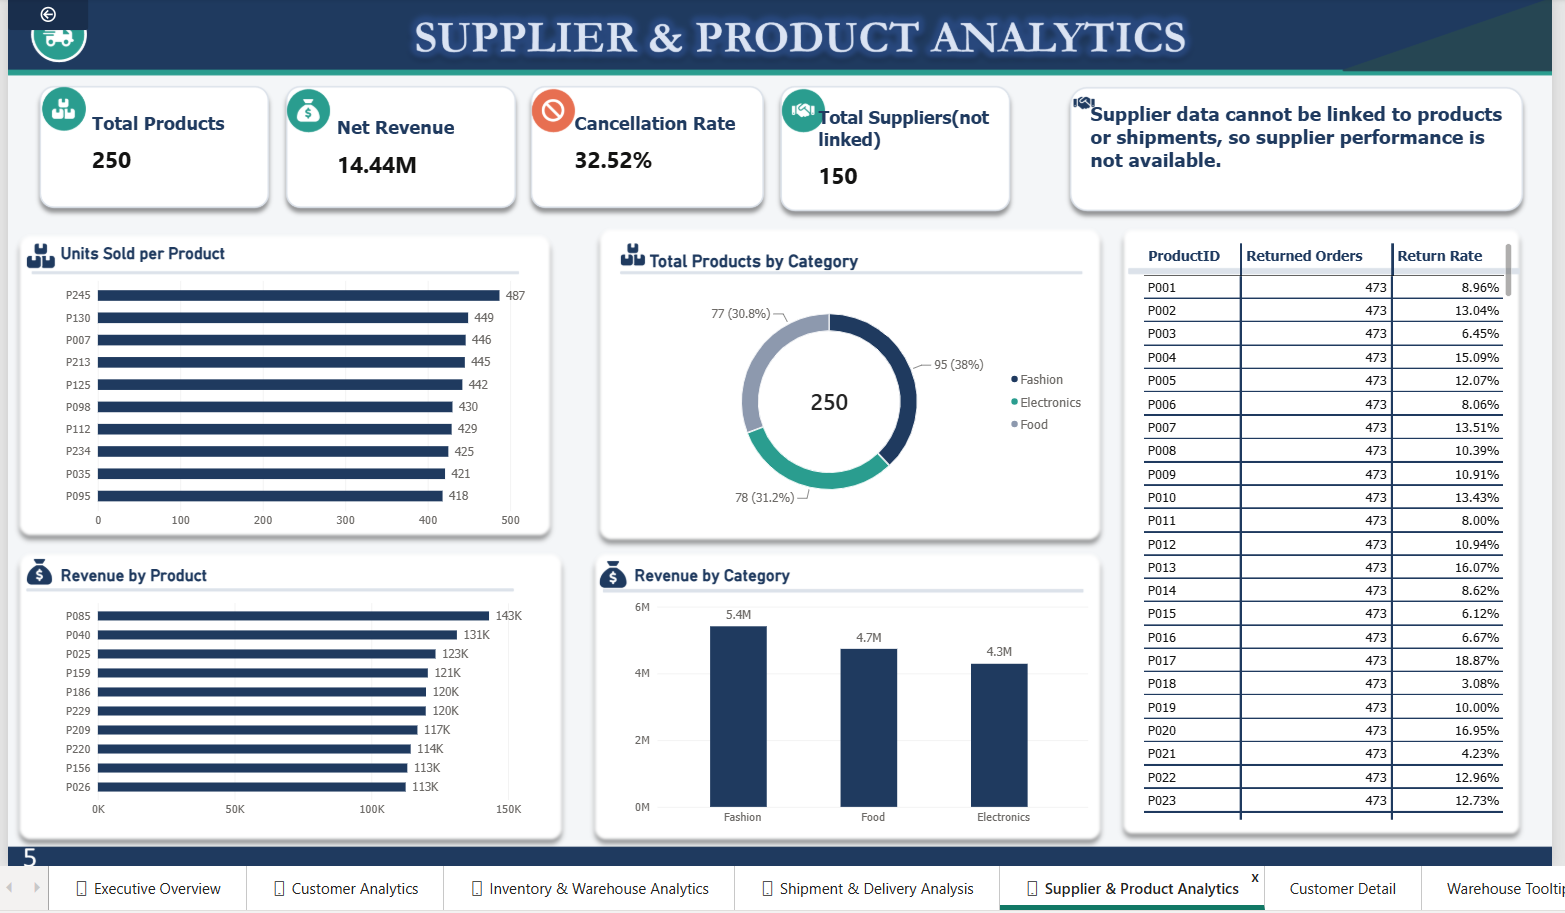

What the dashboard file says about the page in this screenshot:
{"tool":"powerbi","page":{"name":"Supplier & Product Analytics","canvas":[1920,1080],"ordinal":4},"visuals":[{"type":"cardVisual","fields":{"Data":["Products.Total Products"]},"box":[88.8,113.9,222.8,135.7],"z":0},{"type":"columnChart","title":"Revenue by Category","fields":{"Category":["Products.Category"],"Y":["Customers.Net Revenue"]},"box":[763.8,691.8,596.3,356.8],"z":1000},{"type":"cardVisual","fields":{"Data":["Customers.Net Revenue"]},"box":[393.6,113.9,219.4,147.4],"z":2000},{"type":"cardVisual","fields":{"Data":["Orders.Cancellation Rate"]},"box":[688.4,113.9,234.5,135.7],"z":3000},{"type":"donutChart","fields":{"Category":["Products.Category"],"Y":["Products.Total Products"]},"box":[782.2,299.8,577.9,365.1],"z":4000},{"type":"barChart","title":"Units Sold per Product","fields":{"Category":["Products.ProductID"],"Y":["Order_Items.Units Sold"]},"box":[50.2,291.4,621.4,388.6],"z":5000},{"type":"tableEx","fields":{"Values":["Products.ProductID","Returns.Returned Orders","Products.Products Return Rate"]},"box":[1395.2,291.4,490.8,747],"z":6000},{"type":"actionButton","box":[0,0,100,40],"z":7000},{"type":"barChart","title":"Revenue by Product","fields":{"Category":["Products.ProductID"],"Y":["Customers.Net Revenue"]},"box":[50.2,691.8,638.2,346.7],"z":8000},{"type":"cardVisual","fields":{"Data":["Suppliers.Total Suppliers"]},"box":[992.4,113.4,247.7,148.3],"z":9000},{"type":"textbox","box":[1346.7,129,515.9,120.6],"z":10000}]}

Visuals, with their boxes on the page's 1920x1080 design canvas (x1, y1, x2, y2). These are canvas units, not pixel positions in the 1565x913 screenshot, which may show the page scaled, cropped or inside an application window:
cardVisual - Products.Total Products: 89 114 312 250
"Revenue by Category" columnChart: 764 692 1360 1049
cardVisual - Customers.Net Revenue: 394 114 613 261
cardVisual - Orders.Cancellation Rate: 688 114 923 250
donutChart - Products.Category x Products.Total Products: 782 300 1360 665
"Units Sold per Product" barChart: 50 291 672 680
tableEx - Products.ProductID x Returns.Returned Orders: 1395 291 1886 1038
actionButton: 0 0 100 40
"Revenue by Product" barChart: 50 692 688 1038
cardVisual - Suppliers.Total Suppliers: 992 113 1240 262
textbox: 1347 129 1863 250
